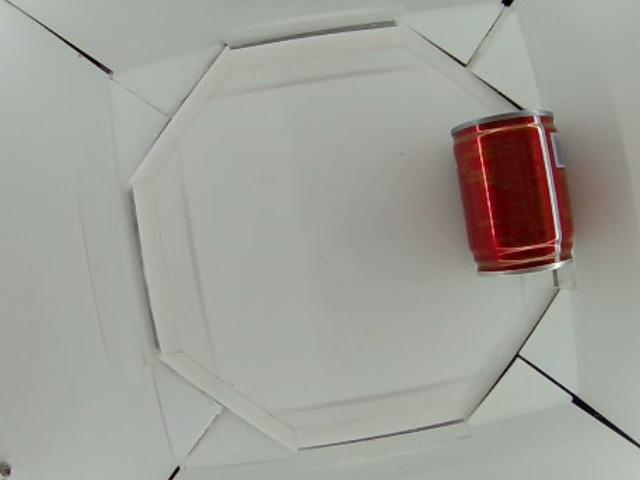Bottle: (451, 112, 573, 279)
